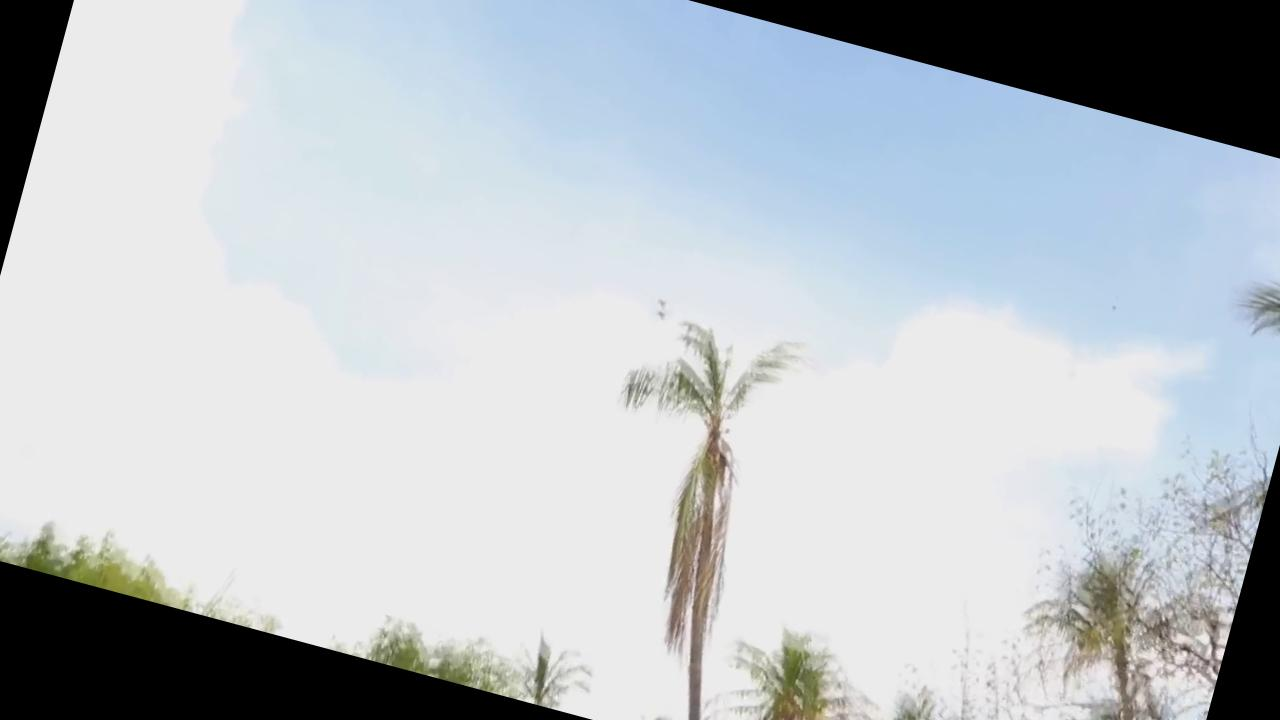drone: (648, 298, 678, 328)
